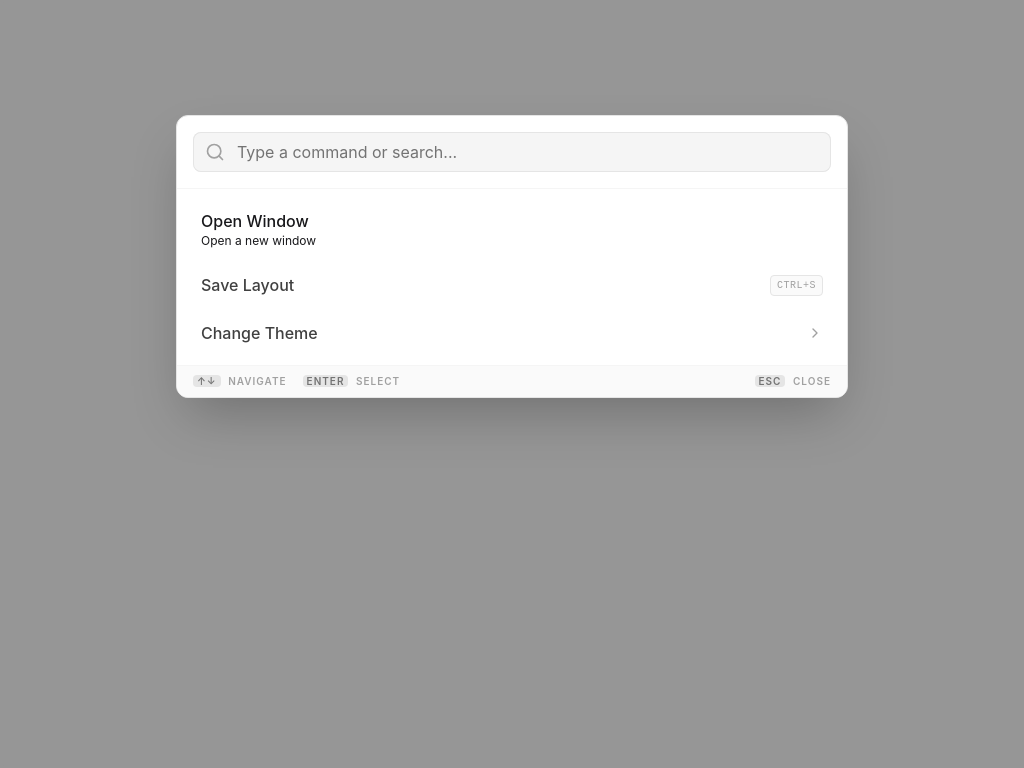
Test: CommandPalette › shows "No results" message when nothing matches
In the field: coordinates (528, 152) top-left (237, 140), bottom-right (819, 164), type "zzznomatch"
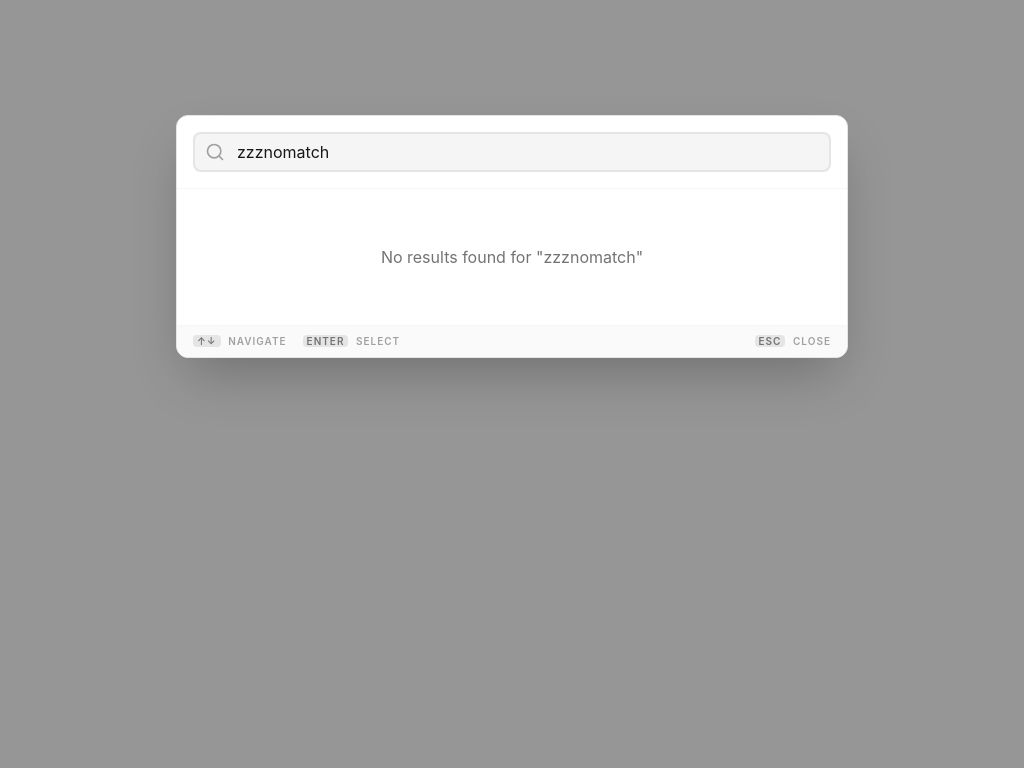
Result: the text "No results found for \"zzznomatch\"" is shown at top-left (381, 247), bottom-right (643, 267)
